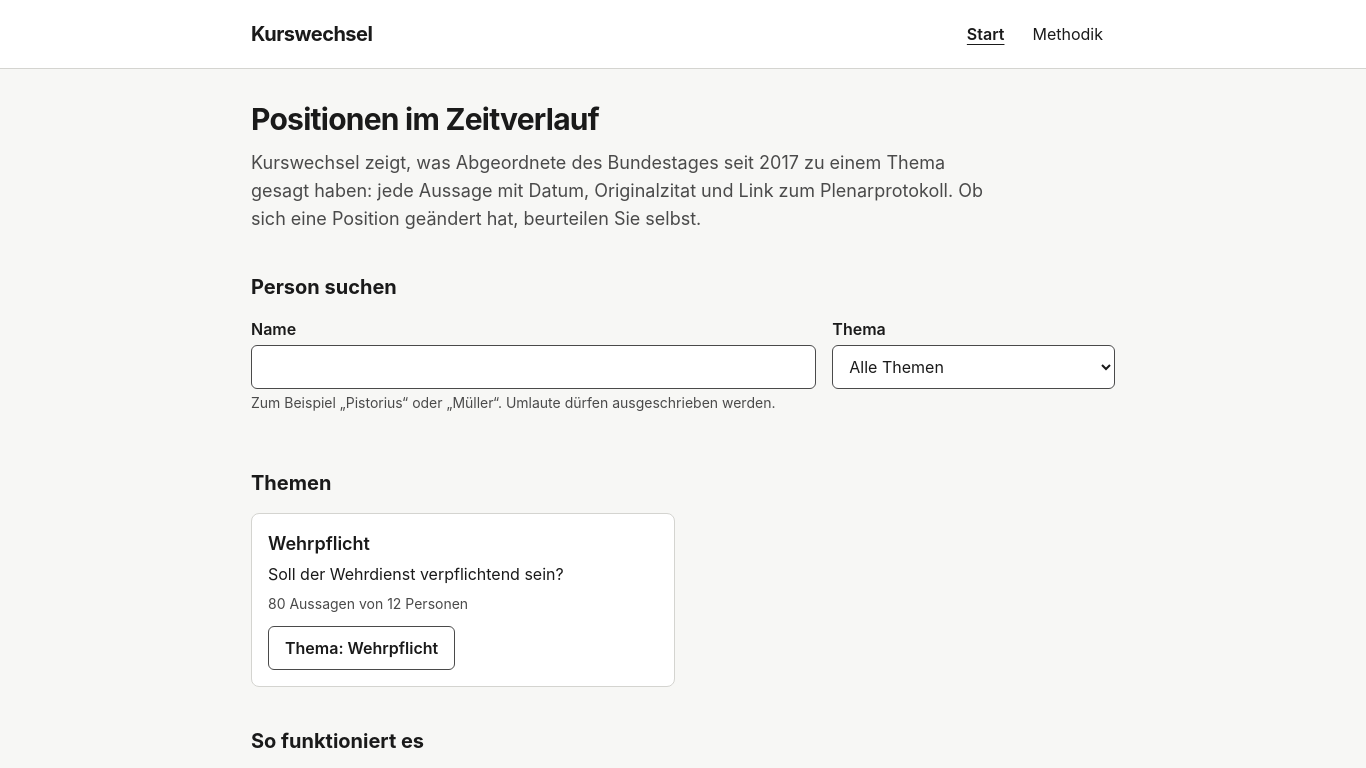
it: home › searches people as you type and links to their page
The width and height of the screenshot is (1366, 768).
Type "müller" into the search field labelled "Name". click: (534, 367)
box: [251,345,816,389]
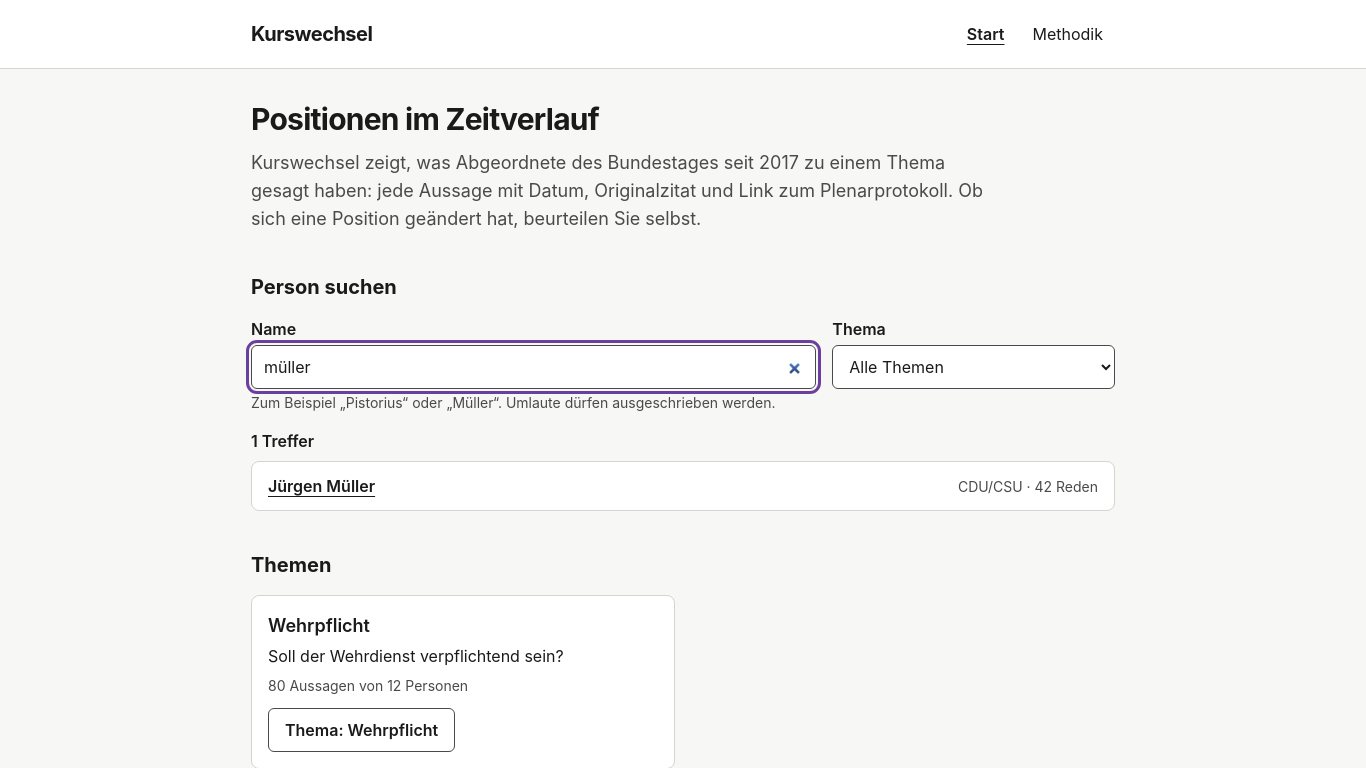
Expected: the text "1 Treffer" is shown, [251,431,314,451]
Expected: the text "CDU/CSU · 42 Reden" is shown, [958,477,1098,497]
